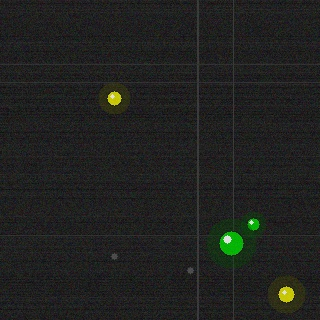green_normal: (217, 229, 245, 257), (245, 216, 261, 232)
yellow_warning: (276, 284, 296, 304), (105, 89, 123, 107)
